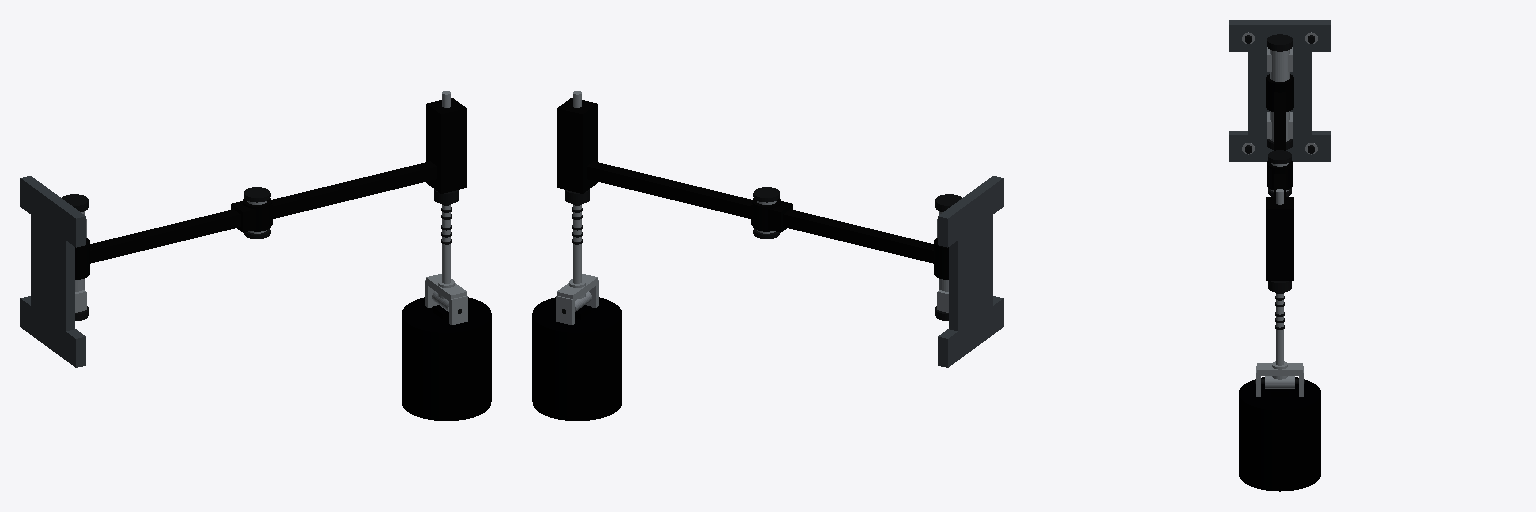
The robot description file, URDF, robot "factory_articulating_wall_lamp":
<robot name="factory_articulating_wall_lamp">
  <material name="blued_steel">
    <color rgba="0.24 0.26 0.28 1" />
    </material>
  <material name="dark_bolt_steel">
    <color rgba="0.08 0.085 0.09 1" />
    </material>
  <material name="brushed_pivot_steel">
    <color rgba="0.48 0.5 0.52 1" />
    </material>
  <material name="black_square_tube">
    <color rgba="0.025 0.027 0.028 1" />
    </material>
  <material name="matte_black_shade">
    <color rgba="0.01 0.011 0.012 1" />
    </material>
  <link name="backplate">
    <visual name="rect_plate">
      <geometry>
        <box size="0.026 0.18 0.42" />
        </geometry>
      <material name="blued_steel">
        <color rgba="0.24 0.26 0.28 1" />
        </material>
      </visual>
    <visual name="upper_bolt_flange">
      <origin xyz="0.002 0 0.17" rpy="0 0 0" />
      <geometry>
        <box size="0.03 0.285 0.082" />
        </geometry>
      <material name="blued_steel">
        <color rgba="0.24 0.26 0.28 1" />
        </material>
      </visual>
    <visual name="lower_bolt_flange">
      <origin xyz="0.002 0 -0.17" rpy="0 0 0" />
      <geometry>
        <box size="0.03 0.285 0.082" />
        </geometry>
      <material name="blued_steel">
        <color rgba="0.24 0.26 0.28 1" />
        </material>
      </visual>
    <visual name="bolt_washer_-0.17_-0.09">
      <origin xyz="0.016 -0.088 -0.17" rpy="0 1.5708 0" />
      <geometry>
        <cylinder radius="0.018" length="0.006" />
        </geometry>
      <material name="brushed_pivot_steel">
        <color rgba="0.48 0.5 0.52 1" />
        </material>
      </visual>
    <visual name="bolt_head_-0.17_-0.09">
      <origin xyz="0.024 -0.088 -0.17" rpy="0 1.5708 0" />
      <geometry>
        <cylinder radius="0.011" length="0.01" />
        </geometry>
      <material name="dark_bolt_steel">
        <color rgba="0.08 0.085 0.09 1" />
        </material>
      </visual>
    <visual name="bolt_washer_-0.17_+0.09">
      <origin xyz="0.016 0.088 -0.17" rpy="0 1.5708 0" />
      <geometry>
        <cylinder radius="0.018" length="0.006" />
        </geometry>
      <material name="brushed_pivot_steel">
        <color rgba="0.48 0.5 0.52 1" />
        </material>
      </visual>
    <visual name="bolt_head_-0.17_+0.09">
      <origin xyz="0.024 0.088 -0.17" rpy="0 1.5708 0" />
      <geometry>
        <cylinder radius="0.011" length="0.01" />
        </geometry>
      <material name="dark_bolt_steel">
        <color rgba="0.08 0.085 0.09 1" />
        </material>
      </visual>
    <visual name="bolt_washer_+0.17_-0.09">
      <origin xyz="0.016 -0.088 0.17" rpy="0 1.5708 0" />
      <geometry>
        <cylinder radius="0.018" length="0.006" />
        </geometry>
      <material name="brushed_pivot_steel">
        <color rgba="0.48 0.5 0.52 1" />
        </material>
      </visual>
    <visual name="bolt_head_+0.17_-0.09">
      <origin xyz="0.024 -0.088 0.17" rpy="0 1.5708 0" />
      <geometry>
        <cylinder radius="0.011" length="0.01" />
        </geometry>
      <material name="dark_bolt_steel">
        <color rgba="0.08 0.085 0.09 1" />
        </material>
      </visual>
    <visual name="bolt_washer_+0.17_+0.09">
      <origin xyz="0.016 0.088 0.17" rpy="0 1.5708 0" />
      <geometry>
        <cylinder radius="0.018" length="0.006" />
        </geometry>
      <material name="brushed_pivot_steel">
        <color rgba="0.48 0.5 0.52 1" />
        </material>
      </visual>
    <visual name="bolt_head_+0.17_+0.09">
      <origin xyz="0.024 0.088 0.17" rpy="0 1.5708 0" />
      <geometry>
        <cylinder radius="0.011" length="0.01" />
        </geometry>
      <material name="dark_bolt_steel">
        <color rgba="0.08 0.085 0.09 1" />
        </material>
      </visual>
    <visual name="upper_post_lug">
      <origin xyz="0.038 0 0.12" rpy="0 0 0" />
      <geometry>
        <box size="0.082 0.074 0.052" />
        </geometry>
      <material name="brushed_pivot_steel">
        <color rgba="0.48 0.5 0.52 1" />
        </material>
      </visual>
    <visual name="lower_post_lug">
      <origin xyz="0.038 0 -0.085" rpy="0 0 0" />
      <geometry>
        <box size="0.082 0.074 0.052" />
        </geometry>
      <material name="brushed_pivot_steel">
        <color rgba="0.48 0.5 0.52 1" />
        </material>
      </visual>
    <visual name="pivot_post">
      <origin xyz="0.065 0 0.025" rpy="0 0 0" />
      <geometry>
        <cylinder radius="0.027" length="0.3" />
        </geometry>
      <material name="brushed_pivot_steel">
        <color rgba="0.48 0.5 0.52 1" />
        </material>
      </visual>
    <visual name="post_top_cap">
      <origin xyz="0.065 0 0.178" rpy="0 0 0" />
      <geometry>
        <cylinder radius="0.036" length="0.02" />
        </geometry>
      <material name="dark_bolt_steel">
        <color rgba="0.08 0.085 0.09 1" />
        </material>
      </visual>
    <visual name="post_bottom_cap">
      <origin xyz="0.065 0 -0.128" rpy="0 0 0" />
      <geometry>
        <cylinder radius="0.036" length="0.02" />
        </geometry>
      <material name="dark_bolt_steel">
        <color rgba="0.08 0.085 0.09 1" />
        </material>
      </visual>
    <collision name="rect_plate">
      <geometry>
        <box size="0.026 0.18 0.42" />
        </geometry>
      </collision>
    <collision name="upper_bolt_flange">
      <origin xyz="0.002 0 0.17" rpy="0 0 0" />
      <geometry>
        <box size="0.03 0.285 0.082" />
        </geometry>
      </collision>
    <collision name="lower_bolt_flange">
      <origin xyz="0.002 0 -0.17" rpy="0 0 0" />
      <geometry>
        <box size="0.03 0.285 0.082" />
        </geometry>
      </collision>
    <collision name="bolt_washer_-0.17_-0.09">
      <origin xyz="0.016 -0.088 -0.17" rpy="0 1.5708 0" />
      <geometry>
        <cylinder radius="0.018" length="0.006" />
        </geometry>
      </collision>
    <collision name="bolt_head_-0.17_-0.09">
      <origin xyz="0.024 -0.088 -0.17" rpy="0 1.5708 0" />
      <geometry>
        <cylinder radius="0.011" length="0.01" />
        </geometry>
      </collision>
    <collision name="bolt_washer_-0.17_+0.09">
      <origin xyz="0.016 0.088 -0.17" rpy="0 1.5708 0" />
      <geometry>
        <cylinder radius="0.018" length="0.006" />
        </geometry>
      </collision>
    <collision name="bolt_head_-0.17_+0.09">
      <origin xyz="0.024 0.088 -0.17" rpy="0 1.5708 0" />
      <geometry>
        <cylinder radius="0.011" length="0.01" />
        </geometry>
      </collision>
    <collision name="bolt_washer_+0.17_-0.09">
      <origin xyz="0.016 -0.088 0.17" rpy="0 1.5708 0" />
      <geometry>
        <cylinder radius="0.018" length="0.006" />
        </geometry>
      </collision>
    <collision name="bolt_head_+0.17_-0.09">
      <origin xyz="0.024 -0.088 0.17" rpy="0 1.5708 0" />
      <geometry>
        <cylinder radius="0.011" length="0.01" />
        </geometry>
      </collision>
    <collision name="bolt_washer_+0.17_+0.09">
      <origin xyz="0.016 0.088 0.17" rpy="0 1.5708 0" />
      <geometry>
        <cylinder radius="0.018" length="0.006" />
        </geometry>
      </collision>
    <collision name="bolt_head_+0.17_+0.09">
      <origin xyz="0.024 0.088 0.17" rpy="0 1.5708 0" />
      <geometry>
        <cylinder radius="0.011" length="0.01" />
        </geometry>
      </collision>
    <collision name="upper_post_lug">
      <origin xyz="0.038 0 0.12" rpy="0 0 0" />
      <geometry>
        <box size="0.082 0.074 0.052" />
        </geometry>
      </collision>
    <collision name="lower_post_lug">
      <origin xyz="0.038 0 -0.085" rpy="0 0 0" />
      <geometry>
        <box size="0.082 0.074 0.052" />
        </geometry>
      </collision>
    <collision name="pivot_post">
      <origin xyz="0.065 0 0.025" rpy="0 0 0" />
      <geometry>
        <cylinder radius="0.027" length="0.3" />
        </geometry>
      </collision>
    <collision name="post_top_cap">
      <origin xyz="0.065 0 0.178" rpy="0 0 0" />
      <geometry>
        <cylinder radius="0.036" length="0.02" />
        </geometry>
      </collision>
    <collision name="post_bottom_cap">
      <origin xyz="0.065 0 -0.128" rpy="0 0 0" />
      <geometry>
        <cylinder radius="0.036" length="0.02" />
        </geometry>
      </collision>
    </link>
  <link name="inner_arm">
    <visual name="pivot_sleeve">
      <geometry>
        <cylinder radius="0.039" length="0.09" />
        </geometry>
      <material name="black_square_tube">
        <color rgba="0.025 0.027 0.028 1" />
        </material>
      </visual>
    <visual name="inner_square_tube">
      <origin xyz="0.2575 0 0" rpy="0 0 0" />
      <geometry>
        <box size="0.465 0.036 0.036" />
        </geometry>
      <material name="black_square_tube">
        <color rgba="0.025 0.027 0.028 1" />
        </material>
      </visual>
    <visual name="elbow_block">
      <origin xyz="0.525 0 0" rpy="0 0 0" />
      <geometry>
        <box size="0.09 0.06 0.058" />
        </geometry>
      <material name="black_square_tube">
        <color rgba="0.025 0.027 0.028 1" />
        </material>
      </visual>
    <visual name="elbow_pin">
      <origin xyz="0.54 0 0" rpy="0 0 0" />
      <geometry>
        <cylinder radius="0.026" length="0.092" />
        </geometry>
      <material name="brushed_pivot_steel">
        <color rgba="0.48 0.5 0.52 1" />
        </material>
      </visual>
    <visual name="elbow_top_bolt">
      <origin xyz="0.54 0 0.052" rpy="0 0 0" />
      <geometry>
        <cylinder radius="0.034" length="0.012" />
        </geometry>
      <material name="dark_bolt_steel">
        <color rgba="0.08 0.085 0.09 1" />
        </material>
      </visual>
    <visual name="elbow_bottom_bolt">
      <origin xyz="0.54 0 -0.052" rpy="0 0 0" />
      <geometry>
        <cylinder radius="0.034" length="0.012" />
        </geometry>
      <material name="dark_bolt_steel">
        <color rgba="0.08 0.085 0.09 1" />
        </material>
      </visual>
    <collision name="pivot_sleeve">
      <geometry>
        <cylinder radius="0.039" length="0.09" />
        </geometry>
      </collision>
    <collision name="inner_square_tube">
      <origin xyz="0.2575 0 0" rpy="0 0 0" />
      <geometry>
        <box size="0.465 0.036 0.036" />
        </geometry>
      </collision>
    <collision name="elbow_block">
      <origin xyz="0.525 0 0" rpy="0 0 0" />
      <geometry>
        <box size="0.09 0.06 0.058" />
        </geometry>
      </collision>
    <collision name="elbow_pin">
      <origin xyz="0.54 0 0" rpy="0 0 0" />
      <geometry>
        <cylinder radius="0.026" length="0.092" />
        </geometry>
      </collision>
    <collision name="elbow_top_bolt">
      <origin xyz="0.54 0 0.052" rpy="0 0 0" />
      <geometry>
        <cylinder radius="0.034" length="0.012" />
        </geometry>
      </collision>
    <collision name="elbow_bottom_bolt">
      <origin xyz="0.54 0 -0.052" rpy="0 0 0" />
      <geometry>
        <cylinder radius="0.034" length="0.012" />
        </geometry>
      </collision>
    </link>
  <link name="outer_arm">
    <visual name="elbow_sleeve">
      <geometry>
        <cylinder radius="0.037" length="0.07" />
        </geometry>
      <material name="black_square_tube">
        <color rgba="0.025 0.027 0.028 1" />
        </material>
      </visual>
    <visual name="outer_square_tube">
      <origin xyz="0.285 0 0" rpy="0 0 0" />
      <geometry>
        <box size="0.5 0.036 0.036" />
        </geometry>
      <material name="black_square_tube">
        <color rgba="0.025 0.027 0.028 1" />
        </material>
      </visual>
    <visual name="drop_socket">
      <origin xyz="0.56 0 0.06" rpy="0 0 0" />
      <geometry>
        <box size="0.076 0.076 0.225" />
        </geometry>
      <material name="black_square_tube">
        <color rgba="0.025 0.027 0.028 1" />
        </material>
      </visual>
    <collision name="elbow_sleeve">
      <geometry>
        <cylinder radius="0.037" length="0.07" />
        </geometry>
      </collision>
    <collision name="outer_square_tube">
      <origin xyz="0.285 0 0" rpy="0 0 0" />
      <geometry>
        <box size="0.5 0.036 0.036" />
        </geometry>
      </collision>
    <collision name="drop_socket">
      <origin xyz="0.56 0 0.06" rpy="0 0 0" />
      <geometry>
        <box size="0.076 0.076 0.225" />
        </geometry>
      </collision>
    </link>
  <link name="drop_rod">
    <visual name="threaded_rod">
      <origin xyz="0 0 -0.13" rpy="0 0 0" />
      <geometry>
        <cylinder radius="0.012" length="0.54" />
        </geometry>
      <material name="brushed_pivot_steel">
        <color rgba="0.48 0.5 0.52 1" />
        </material>
      </visual>
    <visual name="thread_crest_0">
      <origin xyz="0 0 -0.17" rpy="0 0 0" />
      <geometry>
        <cylinder radius="0.014" length="0.006" />
        </geometry>
      <material name="dark_bolt_steel">
        <color rgba="0.08 0.085 0.09 1" />
        </material>
      </visual>
    <visual name="thread_crest_1">
      <origin xyz="0 0 -0.19" rpy="0 0 0" />
      <geometry>
        <cylinder radius="0.014" length="0.006" />
        </geometry>
      <material name="dark_bolt_steel">
        <color rgba="0.08 0.085 0.09 1" />
        </material>
      </visual>
    <visual name="thread_crest_2">
      <origin xyz="0 0 -0.21" rpy="0 0 0" />
      <geometry>
        <cylinder radius="0.014" length="0.006" />
        </geometry>
      <material name="dark_bolt_steel">
        <color rgba="0.08 0.085 0.09 1" />
        </material>
      </visual>
    <visual name="thread_crest_3">
      <origin xyz="0 0 -0.24" rpy="0 0 0" />
      <geometry>
        <cylinder radius="0.014" length="0.006" />
        </geometry>
      <material name="dark_bolt_steel">
        <color rgba="0.08 0.085 0.09 1" />
        </material>
      </visual>
    <visual name="thread_crest_4">
      <origin xyz="0 0 -0.26" rpy="0 0 0" />
      <geometry>
        <cylinder radius="0.014" length="0.006" />
        </geometry>
      <material name="dark_bolt_steel">
        <color rgba="0.08 0.085 0.09 1" />
        </material>
      </visual>
    <visual name="thread_crest_5">
      <origin xyz="0 0 -0.28" rpy="0 0 0" />
      <geometry>
        <cylinder radius="0.014" length="0.006" />
        </geometry>
      <material name="dark_bolt_steel">
        <color rgba="0.08 0.085 0.09 1" />
        </material>
      </visual>
    <visual name="locking_ring">
      <origin xyz="0 0 -0.145" rpy="0 0 0" />
      <geometry>
        <cylinder radius="0.033" length="0.03" />
        </geometry>
      <material name="dark_bolt_steel">
        <color rgba="0.08 0.085 0.09 1" />
        </material>
      </visual>
    <visual name="lower_collar">
      <origin xyz="0 0 -0.414" rpy="0 0 0" />
      <geometry>
        <cylinder radius="0.022" length="0.038" />
        </geometry>
      <material name="brushed_pivot_steel">
        <color rgba="0.48 0.5 0.52 1" />
        </material>
      </visual>
    <visual name="tilt_yoke_bridge">
      <origin xyz="0 0 -0.412" rpy="0 0 0" />
      <geometry>
        <box size="0.048 0.128 0.02" />
        </geometry>
      <material name="brushed_pivot_steel">
        <color rgba="0.48 0.5 0.52 1" />
        </material>
      </visual>
    <visual name="tilt_yoke_0">
      <origin xyz="0 0.06 -0.45" rpy="0 0 0" />
      <geometry>
        <box size="0.048 0.016 0.075" />
        </geometry>
      <material name="brushed_pivot_steel">
        <color rgba="0.48 0.5 0.52 1" />
        </material>
      </visual>
    <visual name="tilt_yoke_1">
      <origin xyz="0 -0.06 -0.45" rpy="0 0 0" />
      <geometry>
        <box size="0.048 0.016 0.075" />
        </geometry>
      <material name="brushed_pivot_steel">
        <color rgba="0.48 0.5 0.52 1" />
        </material>
      </visual>
    <visual name="tilt_pin">
      <origin xyz="0 0 -0.45" rpy="1.5708 0 0" />
      <geometry>
        <cylinder radius="0.007" length="0.138" />
        </geometry>
      <material name="dark_bolt_steel">
        <color rgba="0.08 0.085 0.09 1" />
        </material>
      </visual>
    <collision name="threaded_rod">
      <origin xyz="0 0 -0.13" rpy="0 0 0" />
      <geometry>
        <cylinder radius="0.012" length="0.54" />
        </geometry>
      </collision>
    <collision name="thread_crest_0">
      <origin xyz="0 0 -0.17" rpy="0 0 0" />
      <geometry>
        <cylinder radius="0.014" length="0.006" />
        </geometry>
      </collision>
    <collision name="thread_crest_1">
      <origin xyz="0 0 -0.19" rpy="0 0 0" />
      <geometry>
        <cylinder radius="0.014" length="0.006" />
        </geometry>
      </collision>
    <collision name="thread_crest_2">
      <origin xyz="0 0 -0.21" rpy="0 0 0" />
      <geometry>
        <cylinder radius="0.014" length="0.006" />
        </geometry>
      </collision>
    <collision name="thread_crest_3">
      <origin xyz="0 0 -0.24" rpy="0 0 0" />
      <geometry>
        <cylinder radius="0.014" length="0.006" />
        </geometry>
      </collision>
    <collision name="thread_crest_4">
      <origin xyz="0 0 -0.26" rpy="0 0 0" />
      <geometry>
        <cylinder radius="0.014" length="0.006" />
        </geometry>
      </collision>
    <collision name="thread_crest_5">
      <origin xyz="0 0 -0.28" rpy="0 0 0" />
      <geometry>
        <cylinder radius="0.014" length="0.006" />
        </geometry>
      </collision>
    <collision name="locking_ring">
      <origin xyz="0 0 -0.145" rpy="0 0 0" />
      <geometry>
        <cylinder radius="0.033" length="0.03" />
        </geometry>
      </collision>
    <collision name="lower_collar">
      <origin xyz="0 0 -0.414" rpy="0 0 0" />
      <geometry>
        <cylinder radius="0.022" length="0.038" />
        </geometry>
      </collision>
    <collision name="tilt_yoke_bridge">
      <origin xyz="0 0 -0.412" rpy="0 0 0" />
      <geometry>
        <box size="0.048 0.128 0.02" />
        </geometry>
      </collision>
    <collision name="tilt_yoke_0">
      <origin xyz="0 0.06 -0.45" rpy="0 0 0" />
      <geometry>
        <box size="0.048 0.016 0.075" />
        </geometry>
      </collision>
    <collision name="tilt_yoke_1">
      <origin xyz="0 -0.06 -0.45" rpy="0 0 0" />
      <geometry>
        <box size="0.048 0.016 0.075" />
        </geometry>
      </collision>
    <collision name="tilt_pin">
      <origin xyz="0 0 -0.45" rpy="1.5708 0 0" />
      <geometry>
        <cylinder radius="0.007" length="0.138" />
        </geometry>
      </collision>
    </link>
  <link name="shade_head">
    <visual name="tilt_barrel">
      <origin xyz="0 0 0" rpy="1.5708 0 0" />
      <geometry>
        <cylinder radius="0.019" length="0.082" />
        </geometry>
      <material name="brushed_pivot_steel">
        <color rgba="0.48 0.5 0.52 1" />
        </material>
      </visual>
    <visual name="shade_neck">
      <origin xyz="0 0 -0.045" rpy="0 0 0" />
      <geometry>
        <box size="0.052 0.052 0.052" />
        </geometry>
      <material name="matte_black_shade">
        <color rgba="0.01 0.011 0.012 1" />
        </material>
      </visual>
    <visual name="shade_shell">
      <geometry>
        <mesh filename="assets/meshes/shade_shell.obj" />
        </geometry>
      <material name="matte_black_shade">
        <color rgba="0.01 0.011 0.012 1" />
        </material>
      </visual>
    <collision name="tilt_barrel">
      <origin xyz="0 0 0" rpy="1.5708 0 0" />
      <geometry>
        <cylinder radius="0.019" length="0.082" />
        </geometry>
      </collision>
    <collision name="shade_neck">
      <origin xyz="0 0 -0.045" rpy="0 0 0" />
      <geometry>
        <box size="0.052 0.052 0.052" />
        </geometry>
      </collision>
    <collision name="shade_shell">
      <geometry>
        <mesh filename="assets/meshes/shade_shell.obj" />
        </geometry>
      </collision>
    </link>
  <joint name="wall_pivot" type="revolute">
    <origin xyz="0.065 0 0.025" rpy="0 0 0" />
    <parent link="backplate" />
    <child link="inner_arm" />
    <axis xyz="0 0 1" />
    <limit effort="18" velocity="1.6" lower="-3.14159" upper="3.14159" />
    </joint>
  <joint name="elbow" type="revolute">
    <origin xyz="0.54 0 0" rpy="0 0 0" />
    <parent link="inner_arm" />
    <child link="outer_arm" />
    <axis xyz="0 0 1" />
    <limit effort="14" velocity="1.4" lower="-2.55" upper="2.55" />
    </joint>
  <joint name="drop_height" type="prismatic">
    <origin xyz="0.56 0 0.07" rpy="0 0 0" />
    <parent link="outer_arm" />
    <child link="drop_rod" />
    <axis xyz="0 0 -1" />
    <limit effort="40" velocity="0.16" lower="0" upper="0.125" />
    </joint>
  <joint name="shade_tilt" type="revolute">
    <origin xyz="0 0 -0.45" rpy="0 0 0" />
    <parent link="drop_rod" />
    <child link="shade_head" />
    <axis xyz="0 1 0" />
    <limit effort="5" velocity="1.2" lower="-0.85" upper="0.85" />
    </joint>
  </robot>

--- Facts derived from the render (not from the file) ---
Views: 3 orthographic renders of the robot side by side, from view 1: azimuth 30°, elevation 25°; view 2: azimuth 150°, elevation 25°; view 3: azimuth 270°, elevation 25°.
Robot: factory_articulating_wall_lamp — 5 links, 4 joints (3 revolute, 1 prismatic); root link backplate; default pose: every joint at zero.
Links seen in each view (by area): view 1: shade_head, backplate, outer_arm, inner_arm, drop_rod; view 2: shade_head, backplate, outer_arm, inner_arm, drop_rod; view 3: backplate, shade_head, outer_arm, drop_rod, inner_arm.
Boxes of the visible links, box(x1,y1,x2,y2) form: shade_head: box(402, 291, 491, 420); backplate: box(20, 176, 88, 367); outer_arm: box(243, 98, 466, 231); inner_arm: box(75, 187, 272, 279); drop_rod: box(425, 91, 467, 324); shade_head: box(532, 291, 621, 420); backplate: box(935, 176, 1003, 367); outer_arm: box(557, 98, 780, 231); inner_arm: box(751, 187, 948, 279); drop_rod: box(556, 91, 598, 324); backplate: box(1229, 20, 1330, 161); shade_head: box(1239, 376, 1320, 491); outer_arm: box(1266, 161, 1293, 280); drop_rod: box(1255, 189, 1304, 396); inner_arm: box(1266, 74, 1293, 196).
Bounding box of the posed robot: 1.29 × 0.285 × 0.875 m (x, y, z).
Meshes: 1 distinct files referenced, 1 mesh visuals loaded (1 OBJ).
